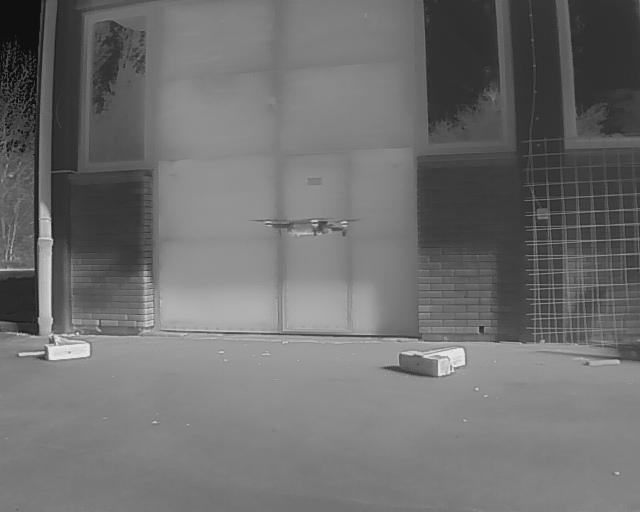drone: (247, 202, 364, 253)
